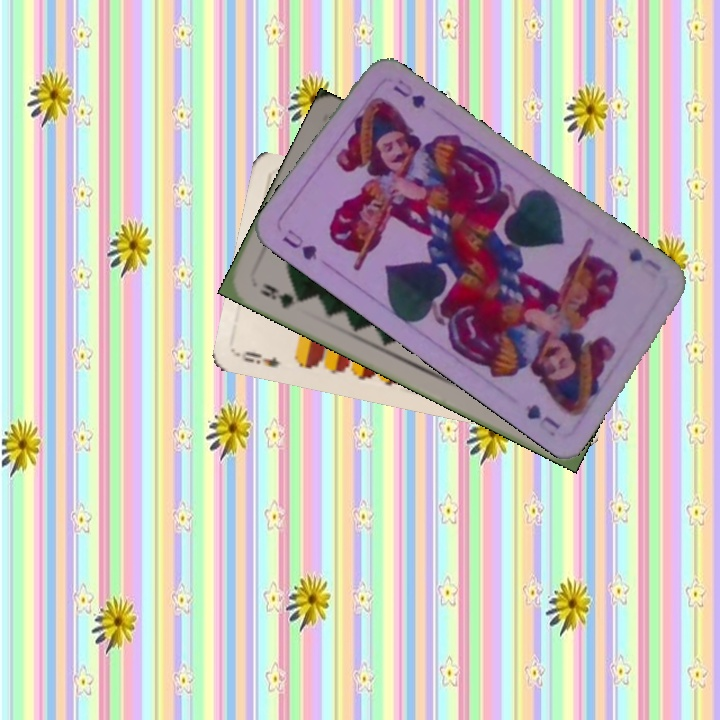E9: (235, 347, 283, 370)
G9: (255, 279, 306, 311)
GU: (278, 225, 320, 263), (624, 244, 665, 274)
